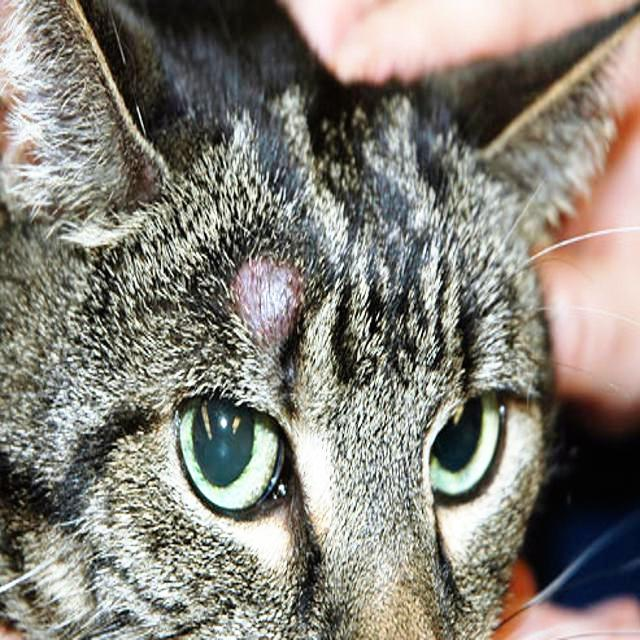lump_and_bump: (233, 255, 302, 344)
